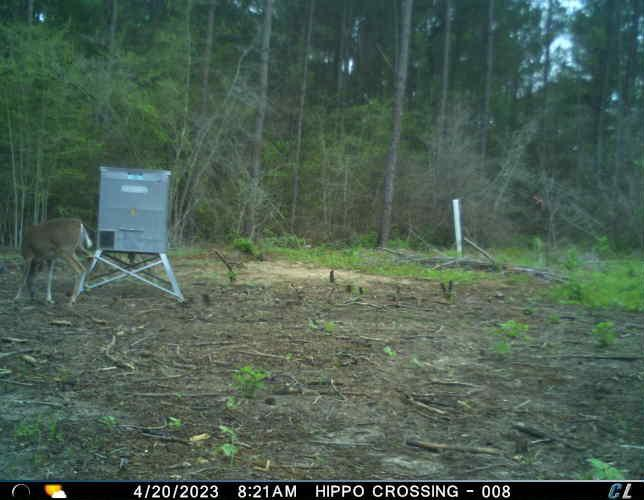Deer: (13, 214, 94, 310)
